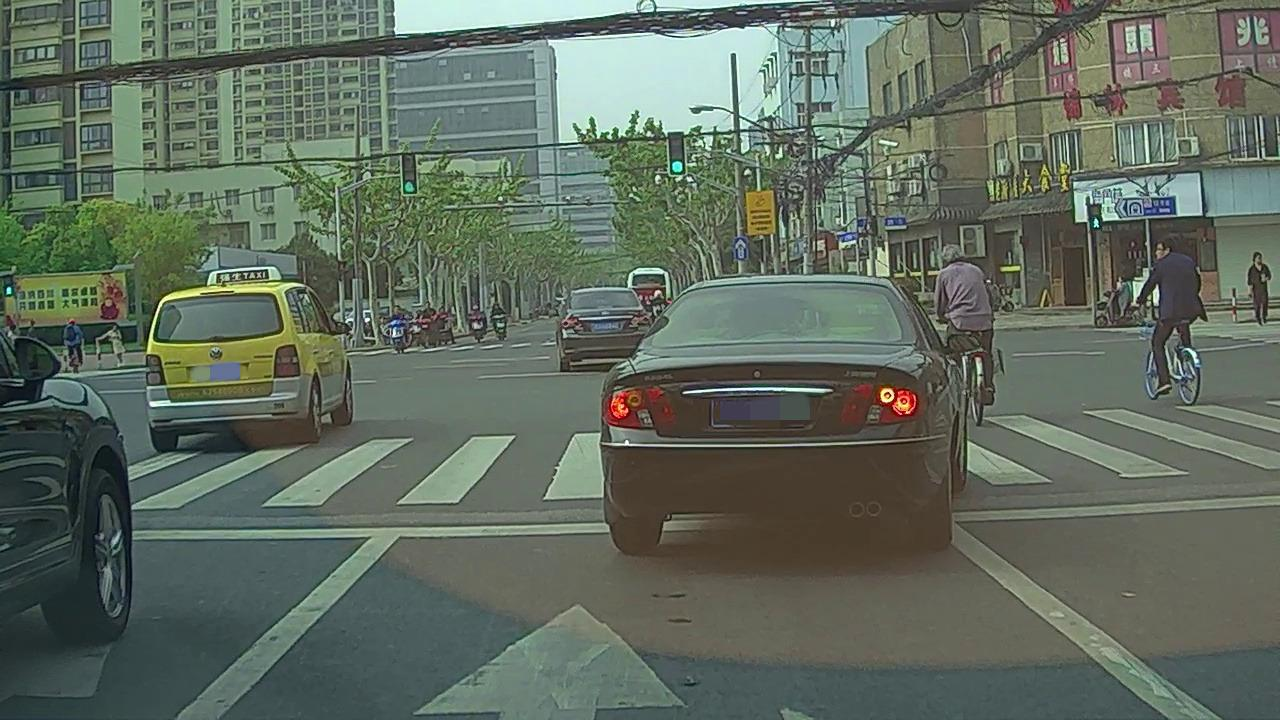traffic_light: (669, 132, 685, 176), (402, 155, 418, 197)
